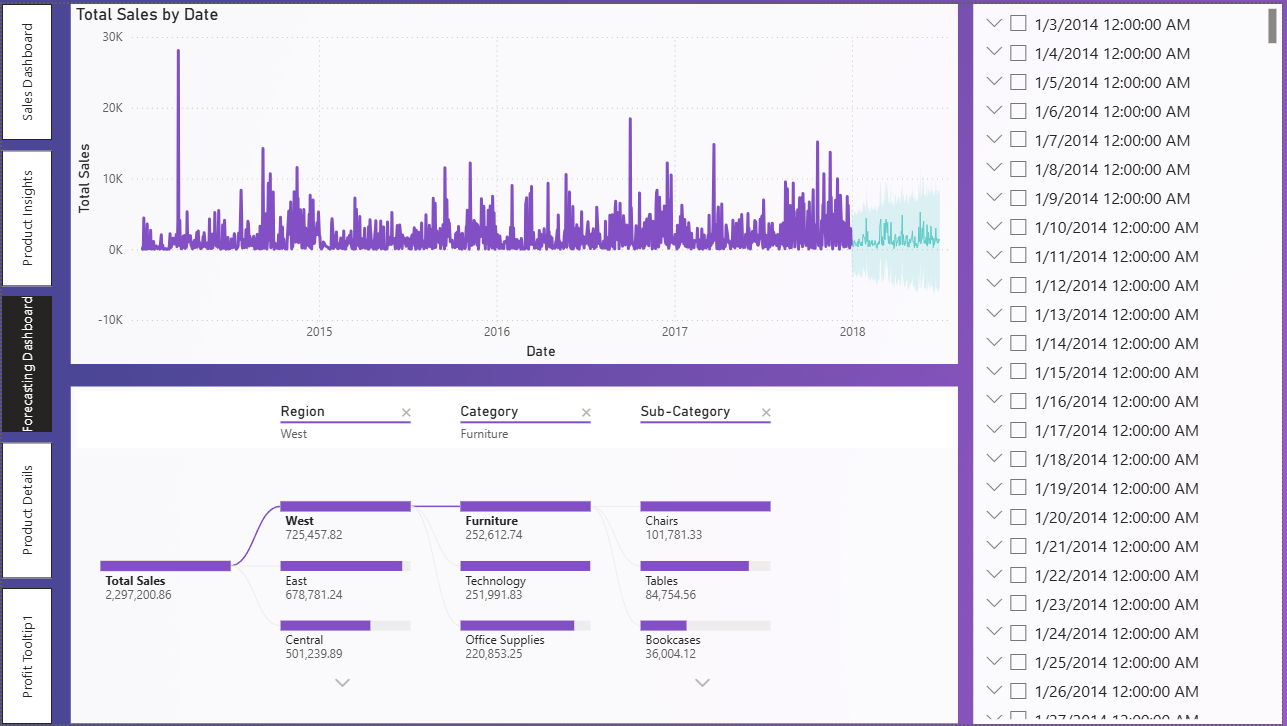

The dashboard page shown, as its layout file describes it:
{"tool":"powerbi","page":{"name":"Forecasting Dashboard","canvas":[1280,720],"ordinal":2},"visuals":[{"type":"lineChart","fields":{"Category":["DateTable.Date"],"Y":["DateTable.Total Sales"]},"box":[68.6,0,887.1,360],"z":0},{"type":"decompositionTreeVisual","fields":{"Analyze":["DateTable.Total Sales"],"ExplainBy":["Sample - Superstore.Region","Sample - Superstore.Category","Sample - Superstore.Sub-Category"]},"box":[68.6,382.9,887.1,337.1],"z":1000},{"type":"slicer","fields":{"Values":["DateTable.Date","Sample - Superstore.Category","Sample - Superstore.Region"]},"box":[971.4,0,308.6,720],"z":2000},{"type":"pageNavigator","box":[0,0,50,720],"z":3000}]}

Visuals, with their boxes in screenshot pixels (x1, y1, x2, y2):
lineChart - DateTable.Date x DateTable.Total Sales: (68, 0, 948, 357)
decompositionTreeVisual - DateTable.Total Sales x Sample - Superstore.Region: (68, 380, 948, 714)
slicer - DateTable.Date x Sample - Superstore.Category: (963, 0, 1269, 714)
pageNavigator: (0, 0, 50, 714)
